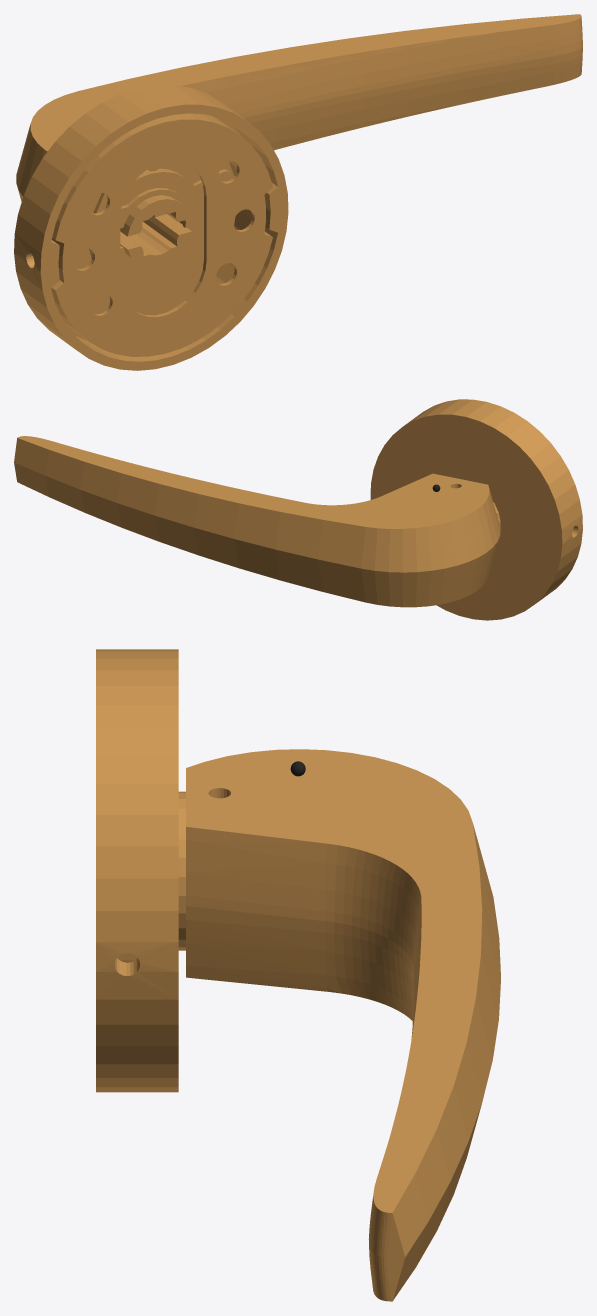
File: narvi pvd gold.glb
3 views of the same model, one above another, from view 1: azimuth 30°, elevation 25°; view 2: azimuth 150°, elevation 25°; view 3: azimuth 270°, elevation 25° (orthographic). The views are drawn at different scales.
Visible parts, largest first — view 1: narvi; view 2: narvi; view 3: narvi.
Boxes of the visible parts, x1,y1,x2,y2 form: narvi: (14, 14, 582, 370); narvi: (14, 399, 582, 620); narvi: (96, 649, 500, 1301).
Size of the model in its own units: 0.9807 by 0.3823 by 0.35.
